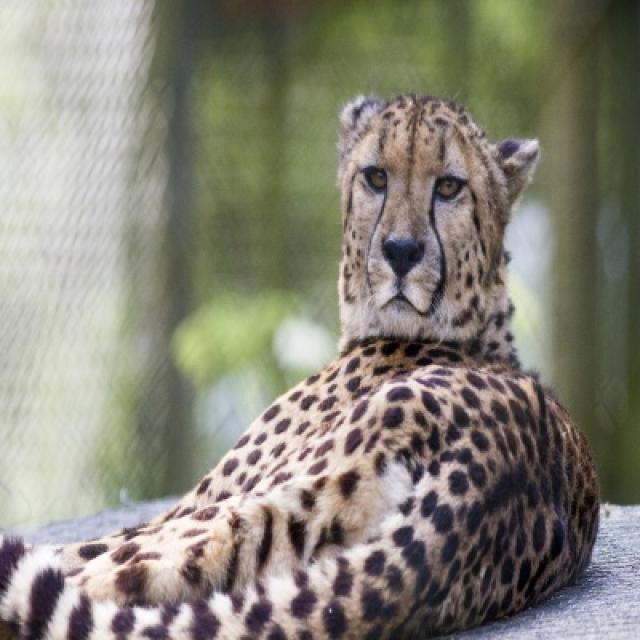Cheetah: (0, 94, 602, 638)
